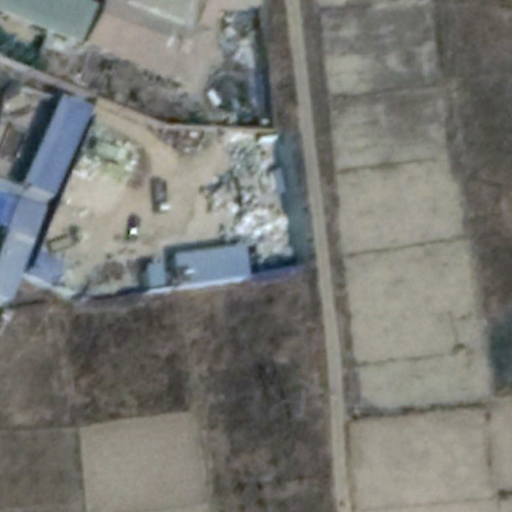msw: (207, 129, 296, 268)
